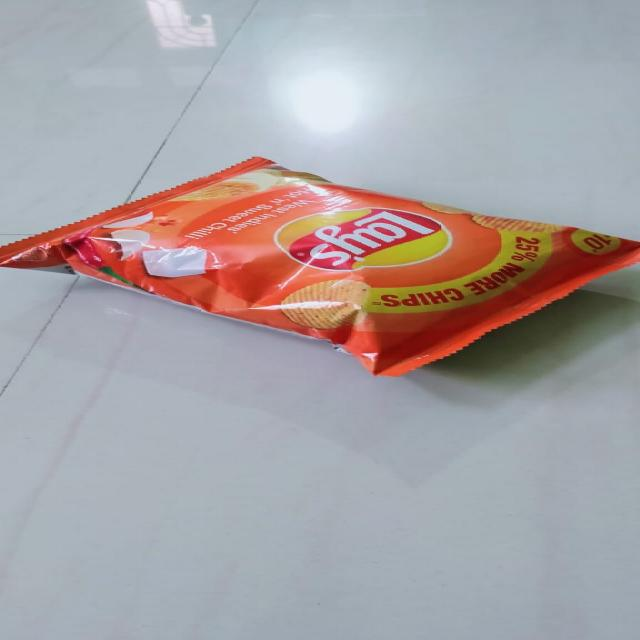lays: (3, 152, 640, 378)
